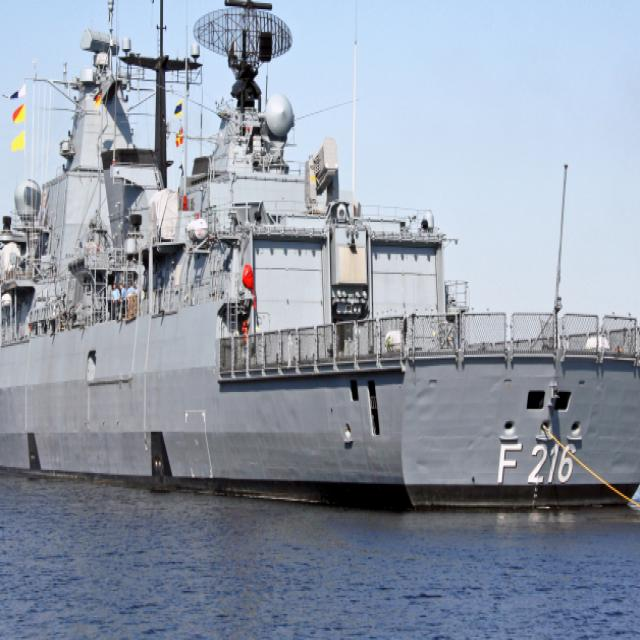Fragata: (1, 1, 640, 512)
